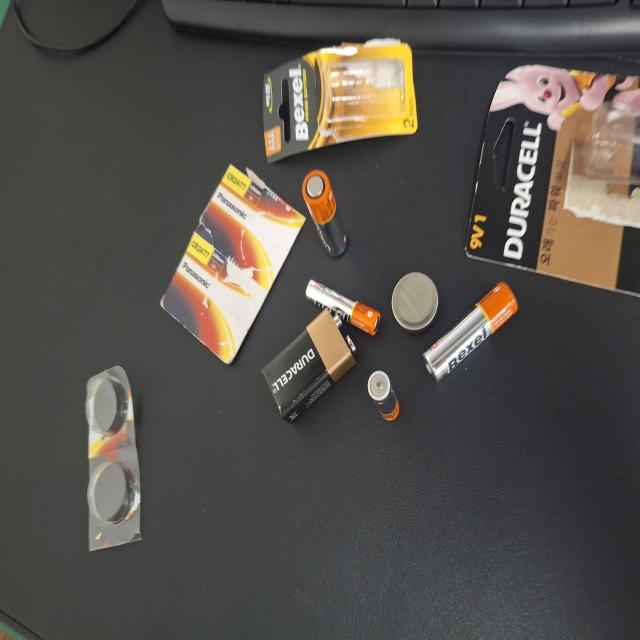9V: (163, 349, 248, 474)
AA: (194, 564, 268, 640), (288, 403, 352, 462)
AAA: (229, 408, 270, 507), (164, 490, 202, 533)
COIN: (231, 522, 276, 584)
